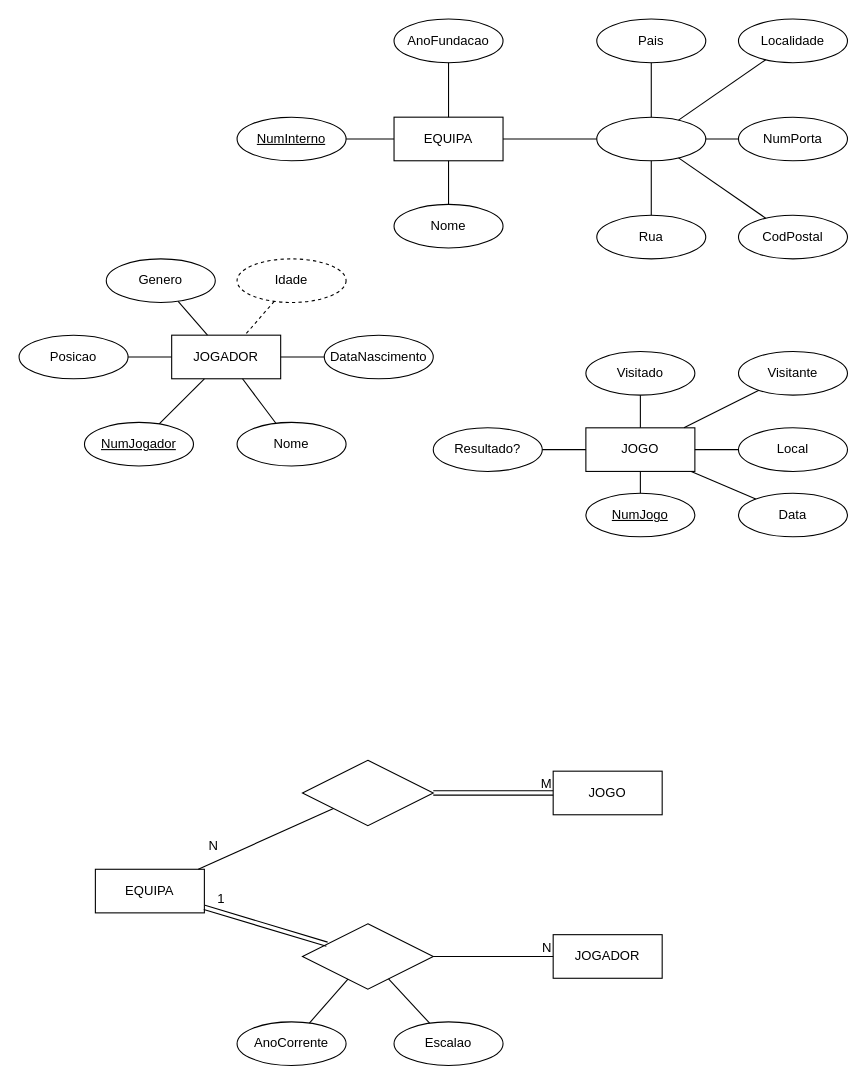
The diagram is 867 pixels wide and 1085 high, and some of its shapes have lost their labels. Here are the shapes that lost their labels. From the top down, the centre of each, then its label:
At pixel 651 138: "Morada".
At pixel 367 792: "JOGOU".
At pixel 367 956: "FILIADO_A".
